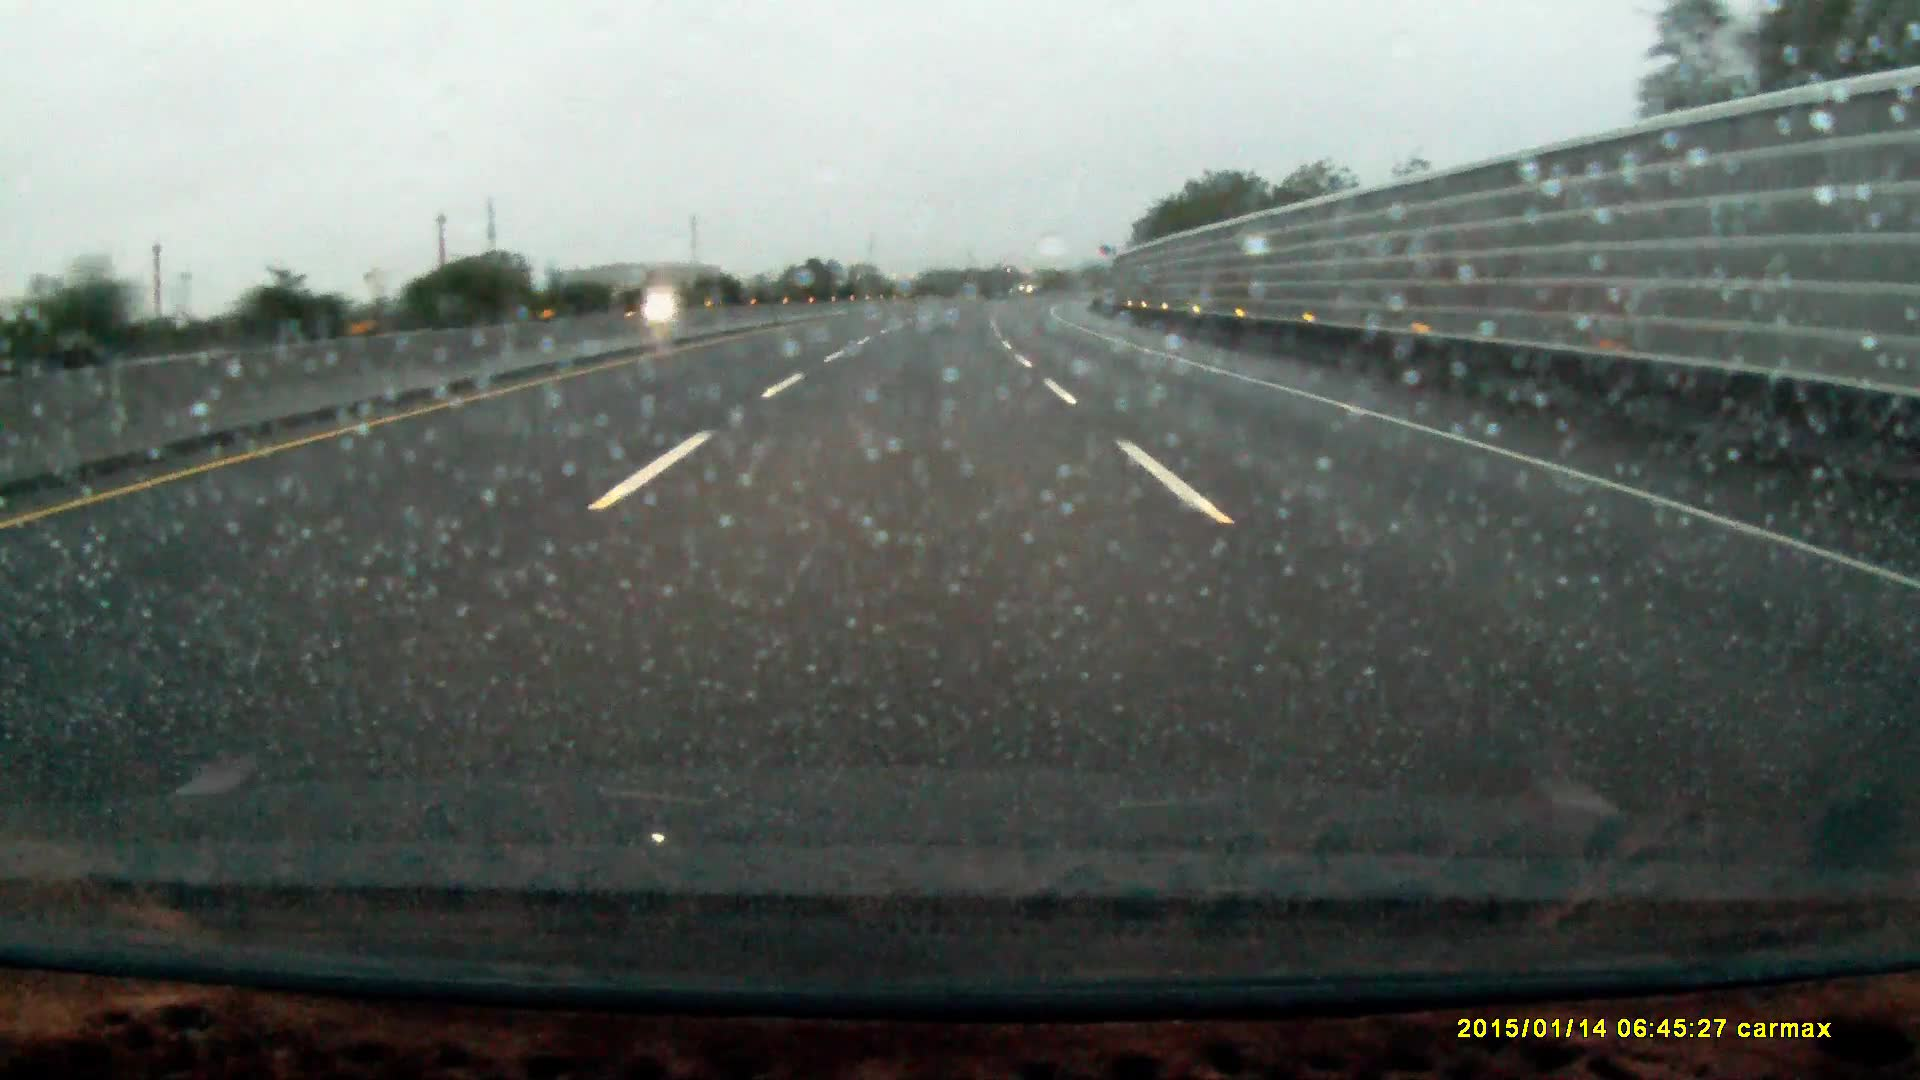vehicle: (622, 287, 692, 313)
